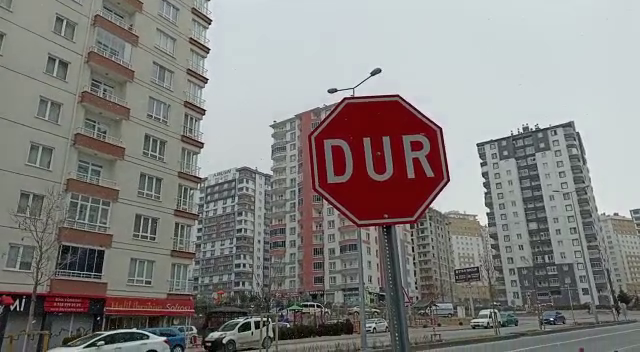stop: (303, 91, 455, 232)
